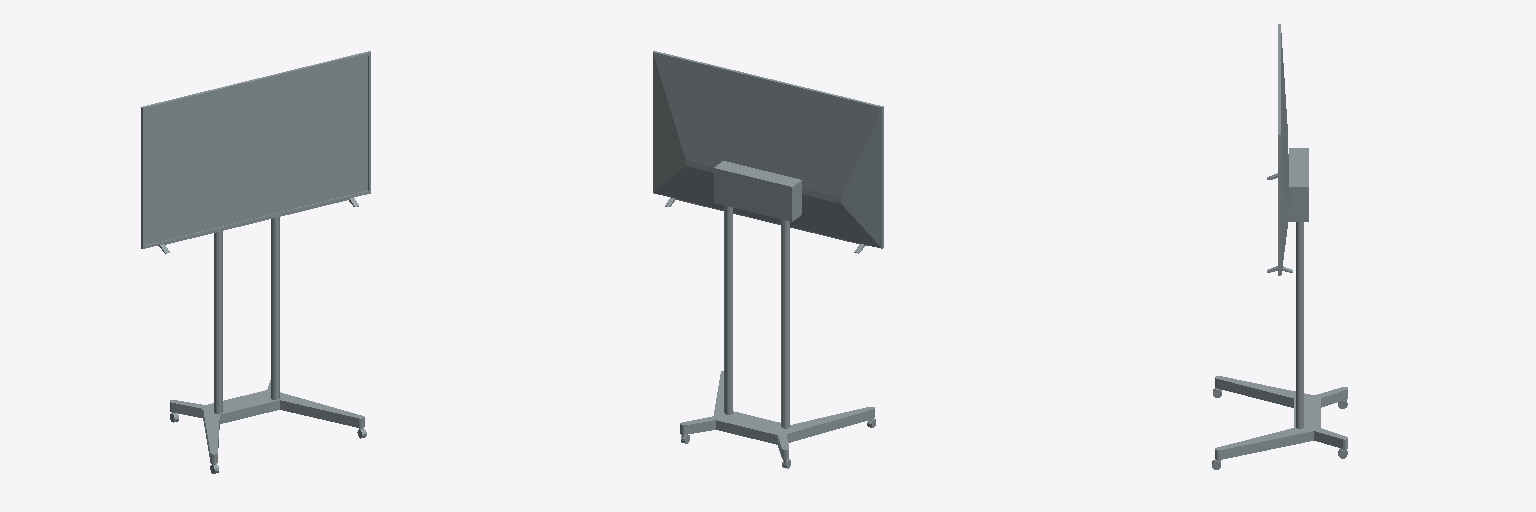
Rendered from TV+Stand.obj.
3 renders of one model, left to right at view 1: azimuth 30°, elevation 25°; view 2: azimuth 150°, elevation 25°; view 3: azimuth 270°, elevation 25°, orthographic.
Parts seen in each view (by area): view 1: Body__99__4.001, Body__99__4; view 2: Body__99__4.001, Body__99__4; view 3: Body__99__4, Body__99__4.001.
Part boxes in pixels (x1,y1,x2,y2): Body__99__4.001: (141, 51, 370, 253); Body__99__4: (170, 217, 366, 473); Body__99__4.001: (653, 51, 883, 253); Body__99__4: (680, 161, 875, 468); Body__99__4: (1212, 148, 1347, 469); Body__99__4.001: (1267, 24, 1292, 275).
Size of the model in its own units: 1.24 by 1.83 by 0.6402.